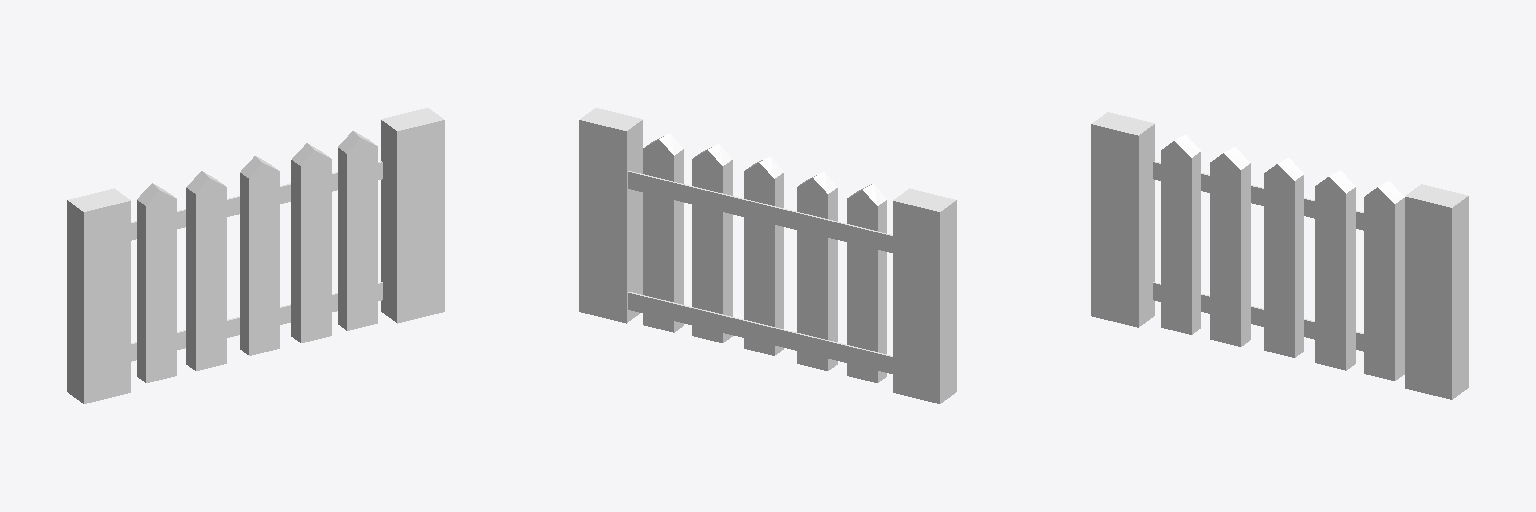
The model's file is fence.obj.
3 views of the same model, side by side, from view 1: azimuth 30°, elevation 25°; view 2: azimuth 150°, elevation 25°; view 3: azimuth 330°, elevation 25° (orthographic).
Parts seen in each view (by area): view 1: group[number redacted], group[number redacted], group[number redacted], group[number redacted], group[number redacted], group[number redacted], group[number redacted], group[number redacted], group[number redacted]; view 2: group[number redacted], group[number redacted], group[number redacted], group[number redacted], group[number redacted], group[number redacted], group[number redacted], group[number redacted], group[number redacted]; view 3: group[number redacted], group[number redacted], group[number redacted], group[number redacted], group[number redacted], group[number redacted], group[number redacted], group[number redacted], group[number redacted].
Part boxes in pixels (x1,y1,x2,y2): group[number redacted]: (67,188,130,403); group[number redacted]: (381,108,444,323); group[number redacted]: (186,171,226,370); group[number redacted]: (291,143,331,342); group[number redacted]: (240,156,279,355); group[number redacted]: (338,131,377,330); group[number redacted]: (137,183,176,382); group[number redacted]: (131,282,382,361); group[number redacted]: (131,161,382,240); group[number redacted]: (893,188,956,403); group[number redacted]: (579,108,642,323); group[number redacted]: (797,171,837,370); group[number redacted]: (692,144,732,342); group[number redacted]: (643,133,683,332); group[number redacted]: (847,183,886,382); group[number redacted]: (744,156,783,355); group[number redacted]: (628,292,892,373); group[number redacted]: (628,171,892,252); group[number redacted]: (1405,184,1468,399); group[number redacted]: (1091,112,1154,327); group[number redacted]: (1315,170,1355,370); group[number redacted]: (1364,181,1404,380); group[number redacted]: (1210,147,1250,346); group[number redacted]: (1264,158,1303,357); group[number redacted]: (1161,135,1200,334); group[number redacted]: (1153,282,1363,351); group[number redacted]: (1153,161,1363,230).
Bounding box in the file's own units: 1.75 × 0.91 × 0.14.